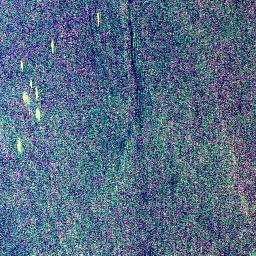Ship: (14, 137, 23, 153), (93, 13, 103, 27), (33, 107, 42, 122), (22, 91, 31, 105), (49, 39, 56, 54), (34, 86, 40, 102), (19, 57, 25, 72), (28, 77, 34, 89)
